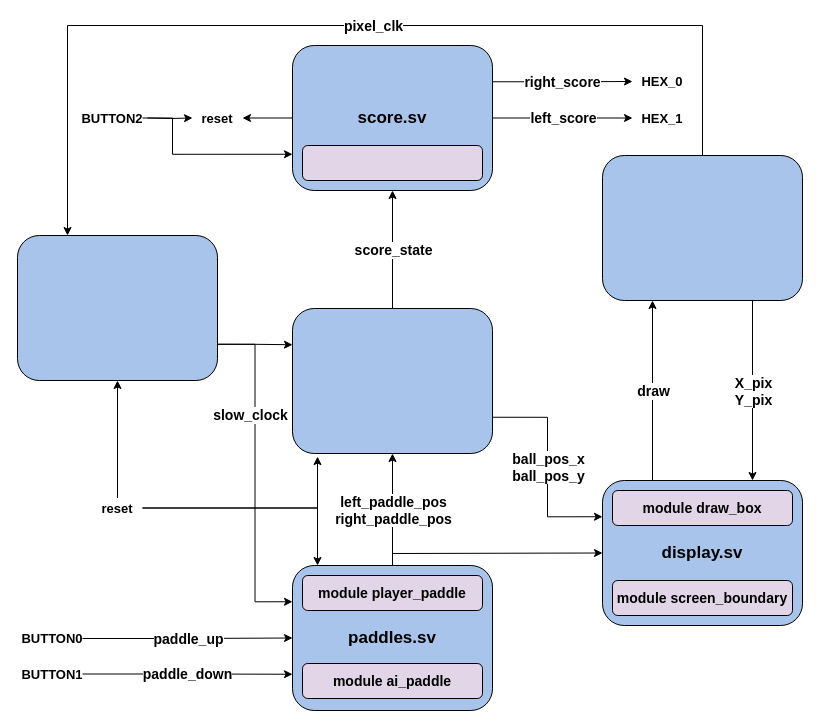
Image size: 820x728. Some labels were removed from this diagram. Here are the shapes that lost their labels. From the top down, the centre of each, then its label:
the point at 392,162: module BCD_Display
the point at 702,227: DE0_VGA.v
the point at 117,307: slow_clock.sv
the point at 392,381: ball.sv
